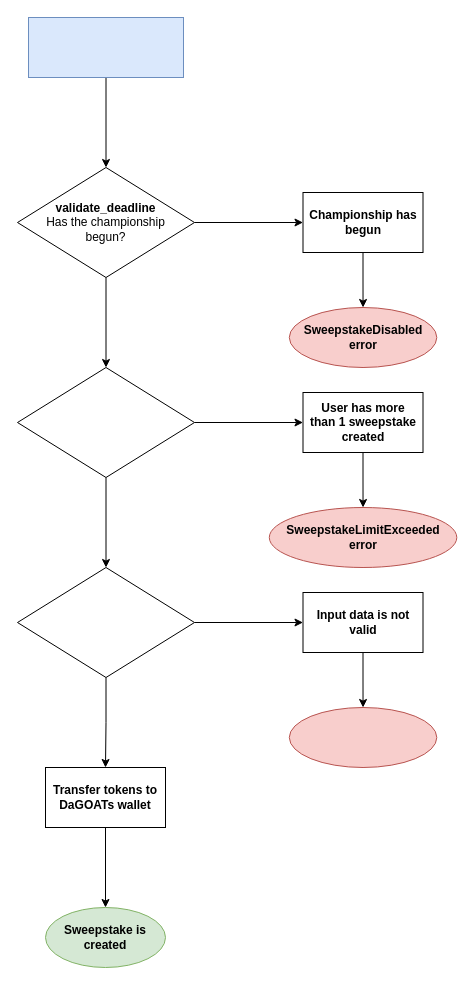
The diagram is 475 pixels wide and 985 high, and some of its shapes have lost their labels. Here are the shapes that lost their labels. From the top down, the centre of each, then its label:
point (106, 47): create_sweepstake_* Create sweepstake
point (105, 422): Validate sweepstake per wallet
point (105, 622): Get valid input data
point (362, 737): InvalidInputLength error
